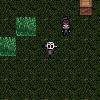Hide: (78, 0, 94, 16)
Jason: (42, 40, 59, 59)
Slow: (16, 16, 37, 36), (0, 36, 16, 56)
Victim: (58, 15, 73, 38)
